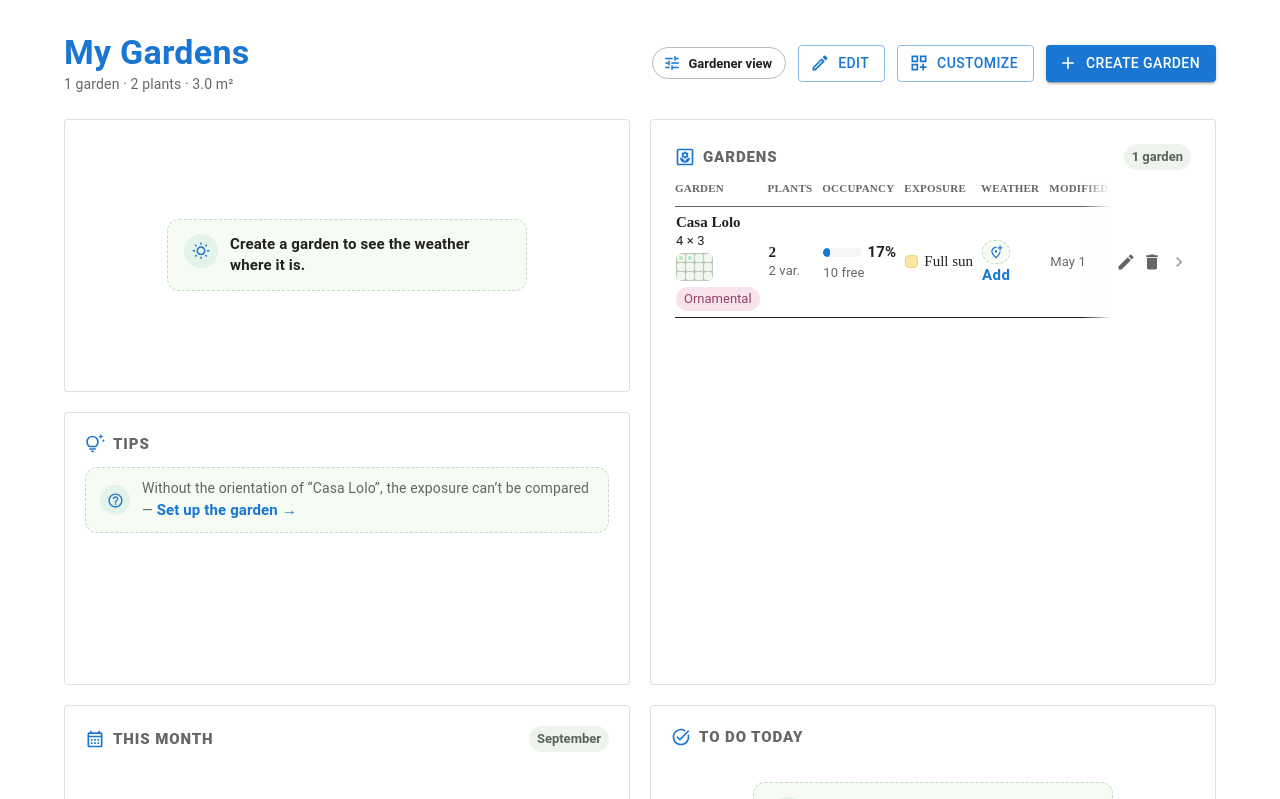
Test: Gardens widget delete flow (SMA-18 lot 1, moved by SMA-336) › deletes once the name is typed, refetches the list and toasts
The width and height of the screenshot is (1280, 799).
Expected: the link "Casa Lolo" is shown, [676,214,741,230]
Click the button named "Delete Casa Lolo". click: (1152, 262)
box: [1139,249,1165,275]
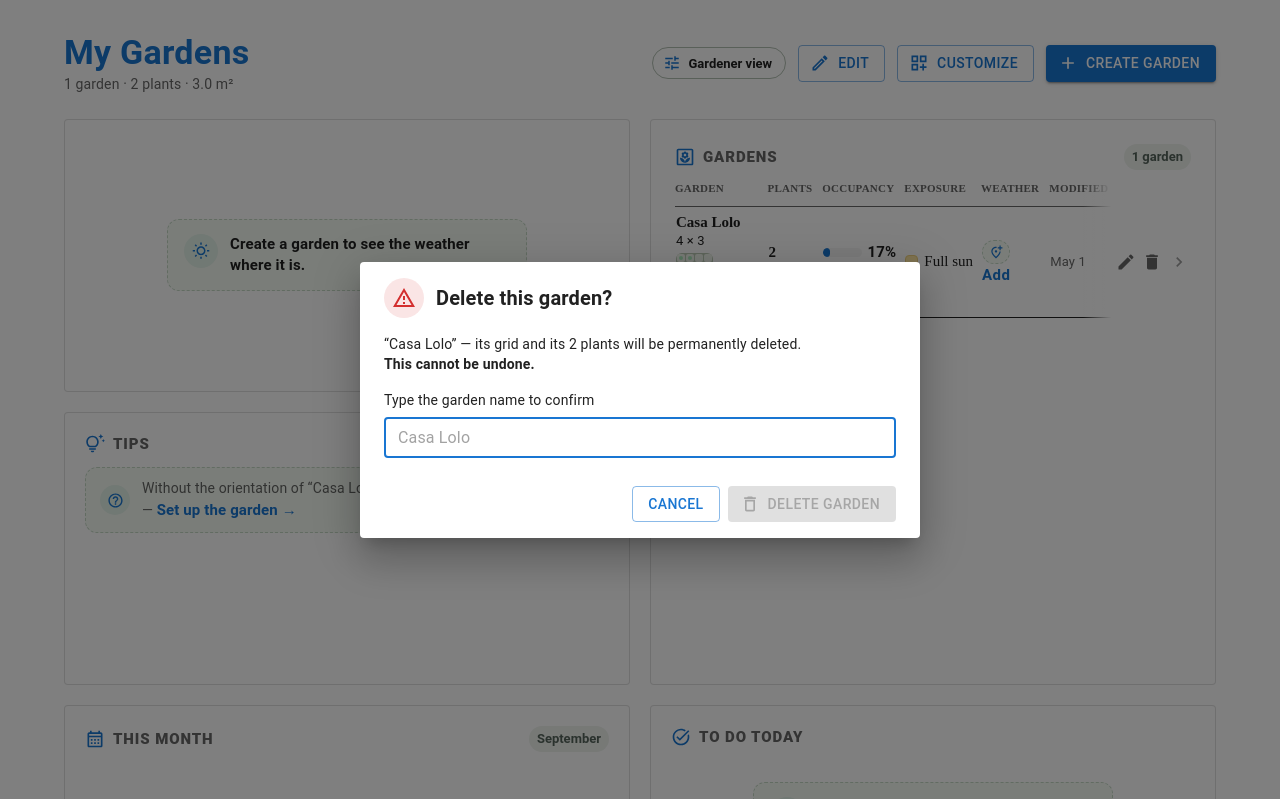
Type "casa lolo" into the field labelled "Type the garden name to confirm". click: (640, 438)
box: [384,418,896,458]
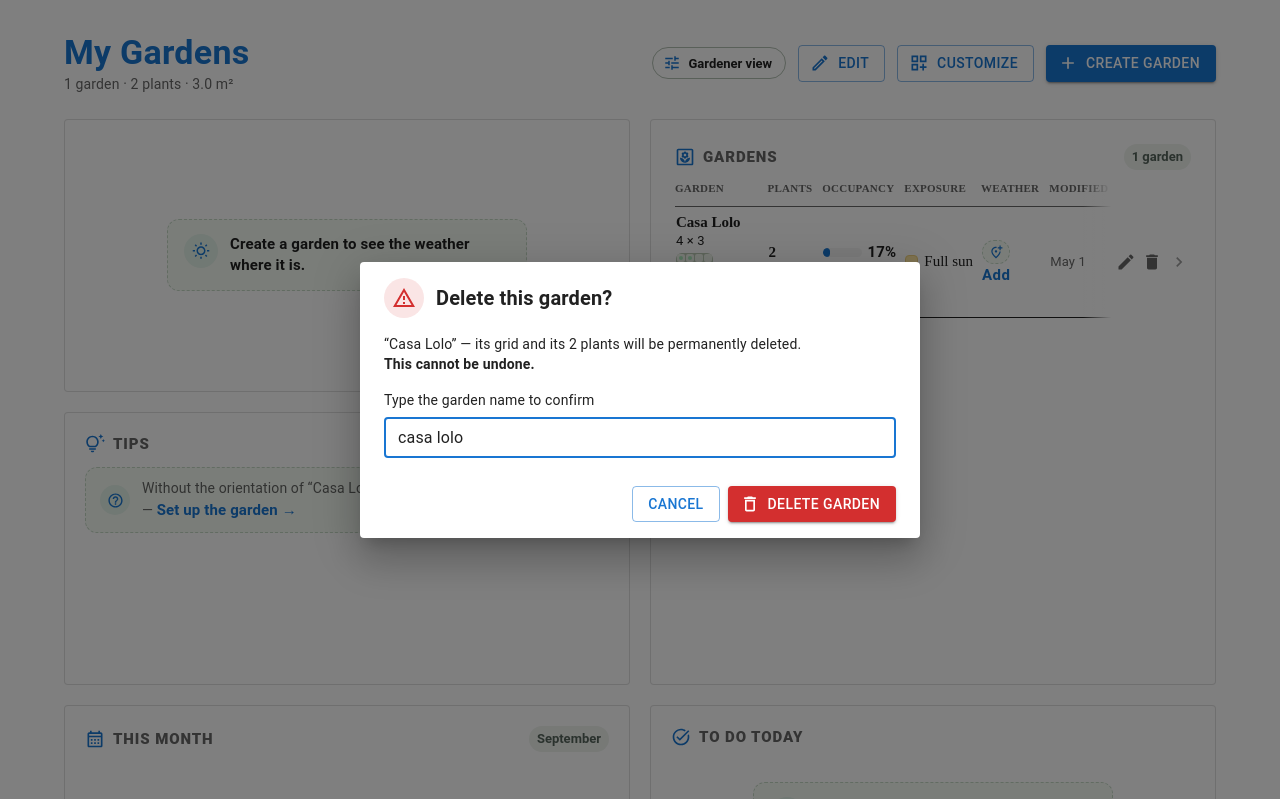
Click the button "Delete garden". click: (812, 504)
box: [728,486,896,522]
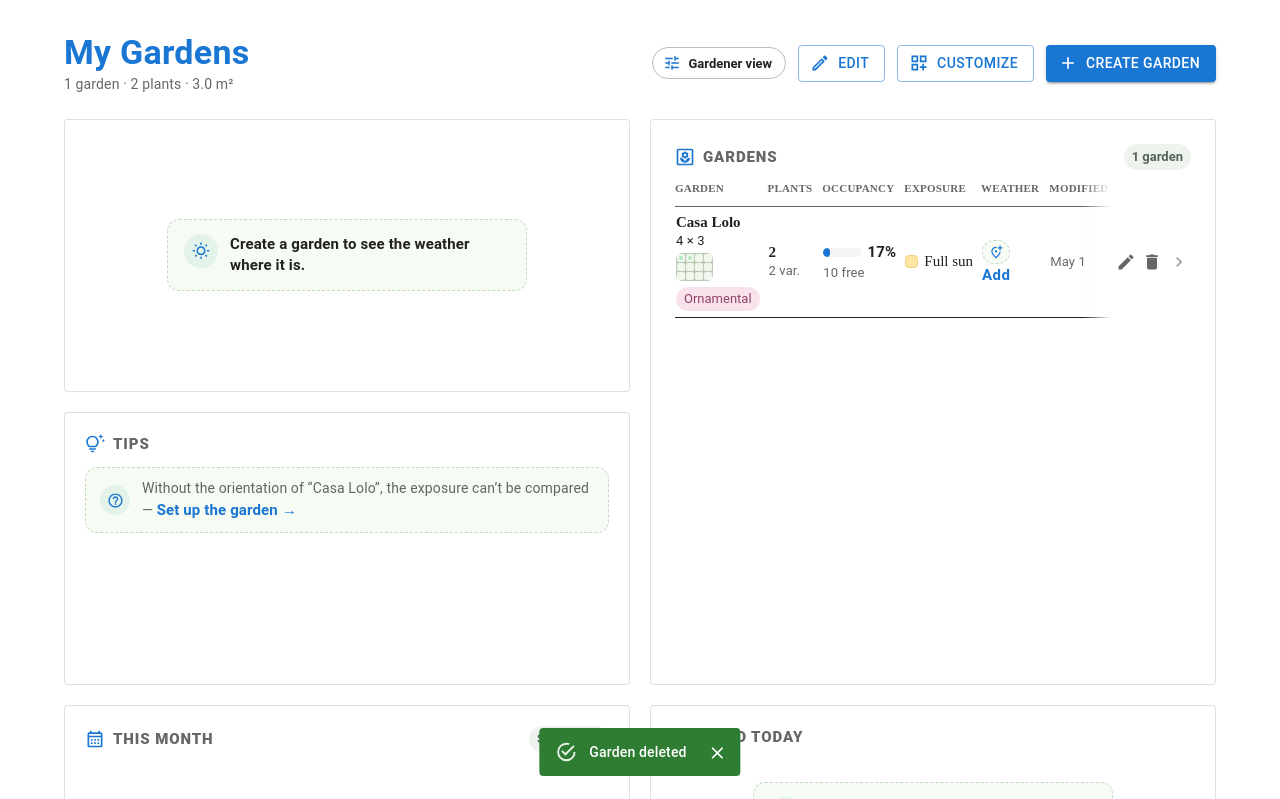
Now the text "Garden deleted" is shown, box [589,744,687,760]
Now the heading "Delete this garden?" is gone
